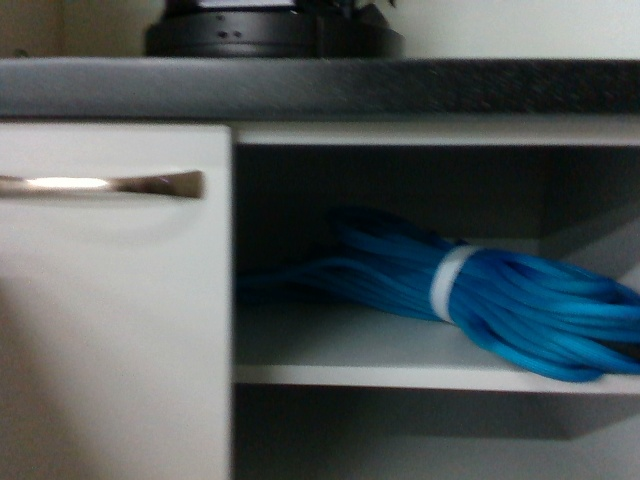rope: (363, 238, 636, 386)
